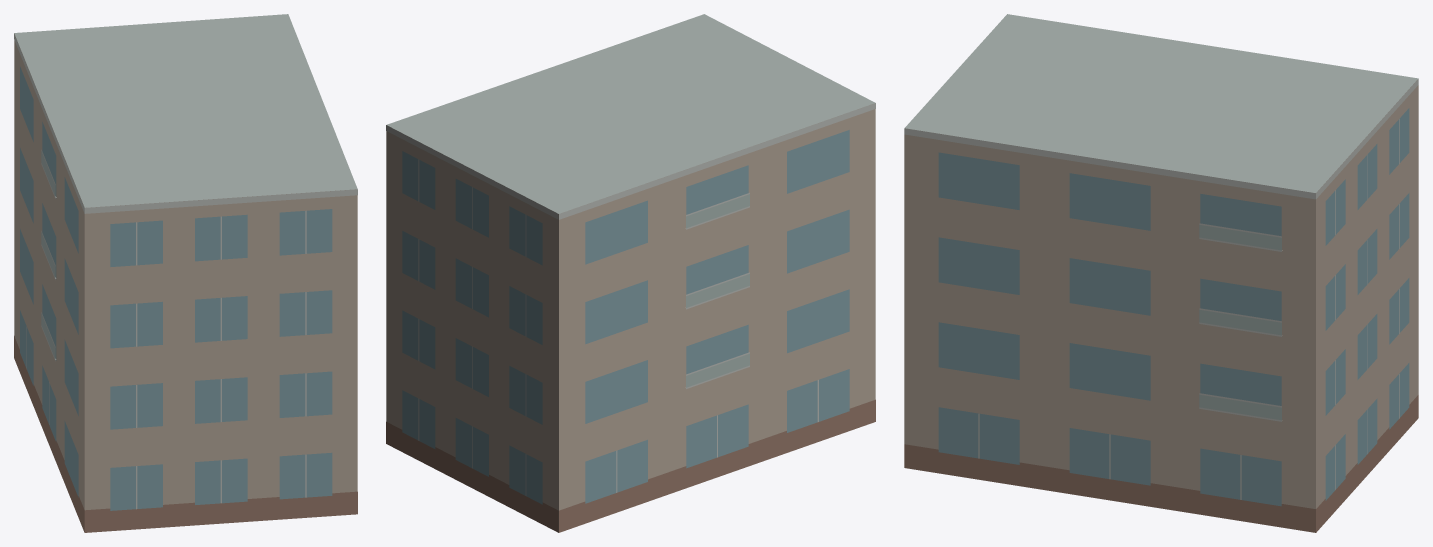
Rendered from survey-upis-32589587.glb.
3 renders of one model, left to right at view 1: azimuth 30°, elevation 25°; view 2: azimuth 150°, elevation 25°; view 3: azimuth 270°, elevation 25°, orthographic. The views are drawn at different scales.
Visible parts, largest first — view 1: survey-upis-32589587.tmp; view 2: survey-upis-32589587.tmp; view 3: survey-upis-32589587.tmp.
Part boxes in pixels (x1,y1,x2,y2): survey-upis-32589587.tmp: [14, 14, 357, 532]; survey-upis-32589587.tmp: [386, 14, 875, 532]; survey-upis-32589587.tmp: [904, 14, 1418, 532].
Bounding box in the file's own units: 14.88 × 13.15 × 18.05.
